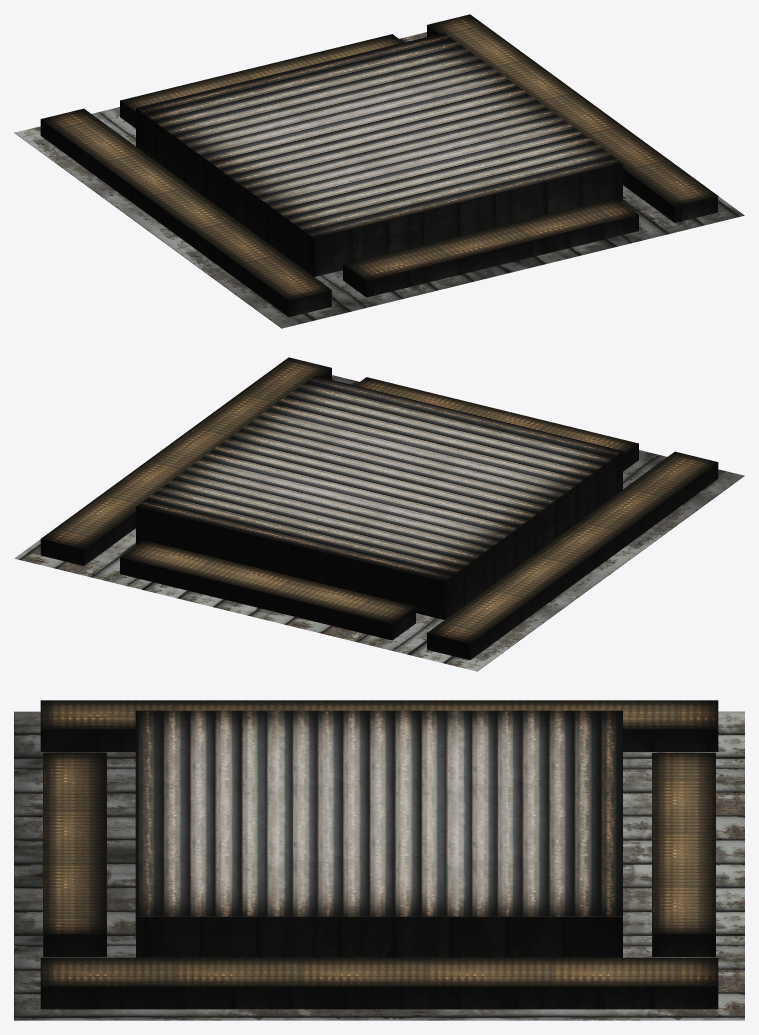
The model's file is Ceiling01.fbx.
3 renders of one model, top to bottom at view 1: azimuth 30°, elevation 25°; view 2: azimuth 150°, elevation 25°; view 3: azimuth 270°, elevation 25°, orthographic. The views are drawn at different scales.
Visible parts, largest first — view 1: Plane.204; view 2: Plane.204; view 3: Plane.204.
Boxes of the visible parts, left/top/right/bottom form: Plane.204: left=14, top=14, right=744, bottom=328; Plane.204: left=14, top=357, right=744, bottom=671; Plane.204: left=14, top=700, right=744, bottom=1020.
Bounding box in the file's own units: 200 × 15.9 × 200.
